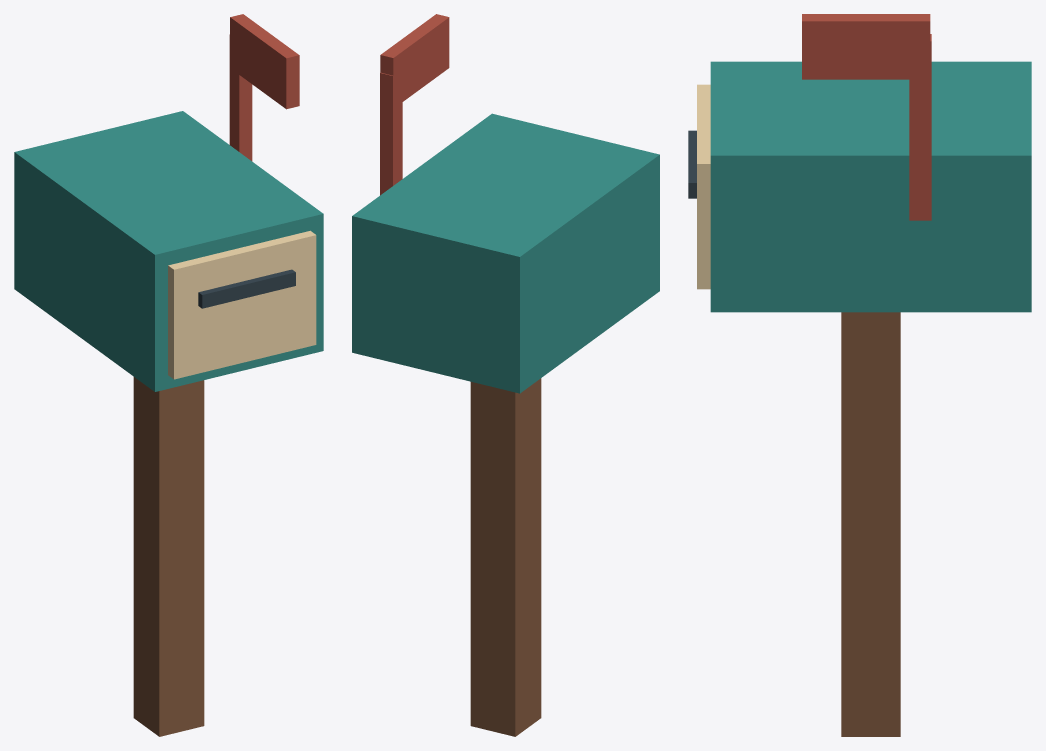
Rendered from mailbox.glb.
3 views of the same model, side by side, from view 1: azimuth 30°, elevation 25°; view 2: azimuth 150°, elevation 25°; view 3: azimuth 270°, elevation 25° (orthographic). The views are drawn at different scales.
Visible parts, largest first — view 1: mailbox, post, door, flag, flag_stem, slot; view 2: mailbox, post, flag, flag_stem; view 3: mailbox, post, flag, flag_stem, door, slot.
Boxes of the visible parts, x1,y1,x2,y2 form: mailbox: (14, 111, 323, 391); post: (133, 377, 204, 736); door: (168, 230, 316, 379); flag: (230, 14, 299, 109); flag_stem: (229, 34, 252, 161); slot: (198, 269, 295, 308); mailbox: (352, 113, 659, 393); post: (470, 378, 541, 736); flag: (380, 14, 449, 108); flag_stem: (380, 70, 402, 195); mailbox: (710, 61, 1031, 312); post: (841, 312, 900, 736); flag: (802, 14, 930, 79); flag_stem: (909, 34, 931, 220); door: (697, 84, 710, 289); slot: (688, 130, 696, 198).
Size of the model in its own units: 0.4925 by 1.69 by 0.695.
